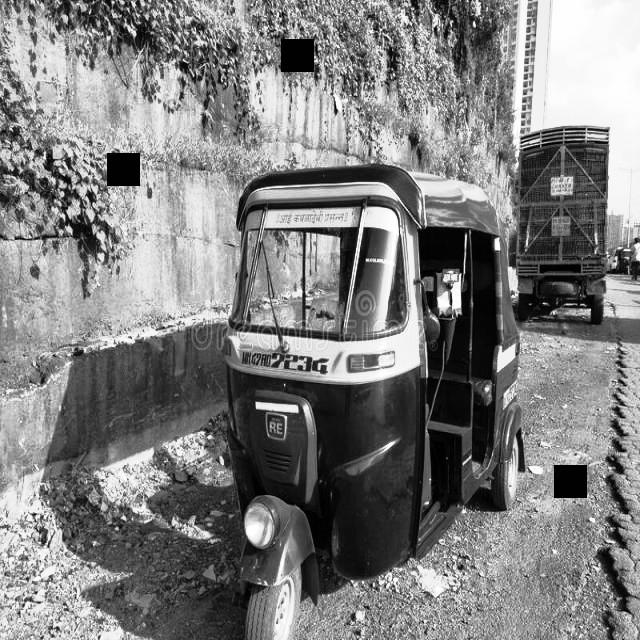Auto-Rickshaw: (173, 149, 539, 639)
